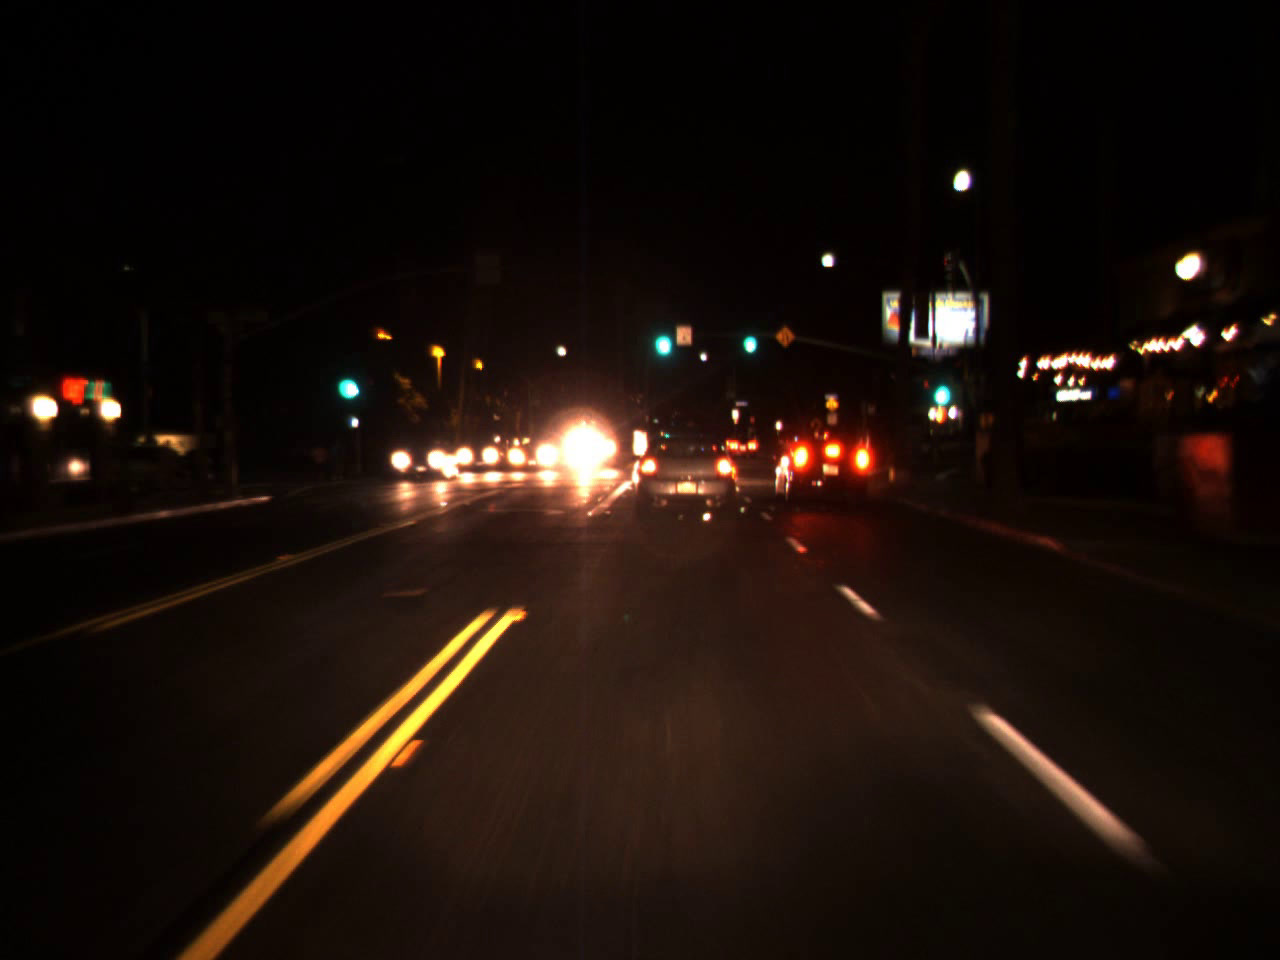go: (927, 356, 954, 416), (332, 353, 360, 407), (648, 311, 675, 362), (738, 314, 759, 359)
